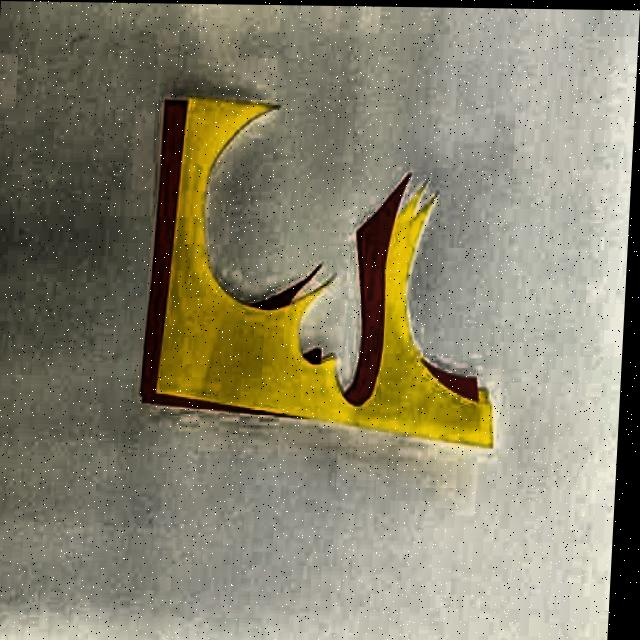paper: (132, 93, 530, 448)
